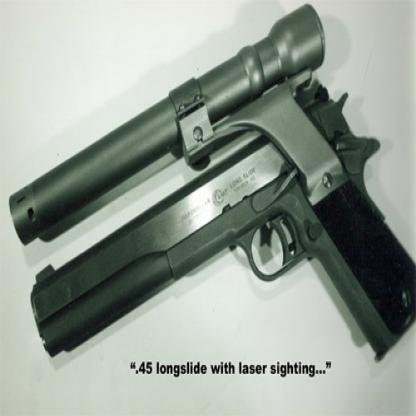gun: (0, 8, 414, 361)
